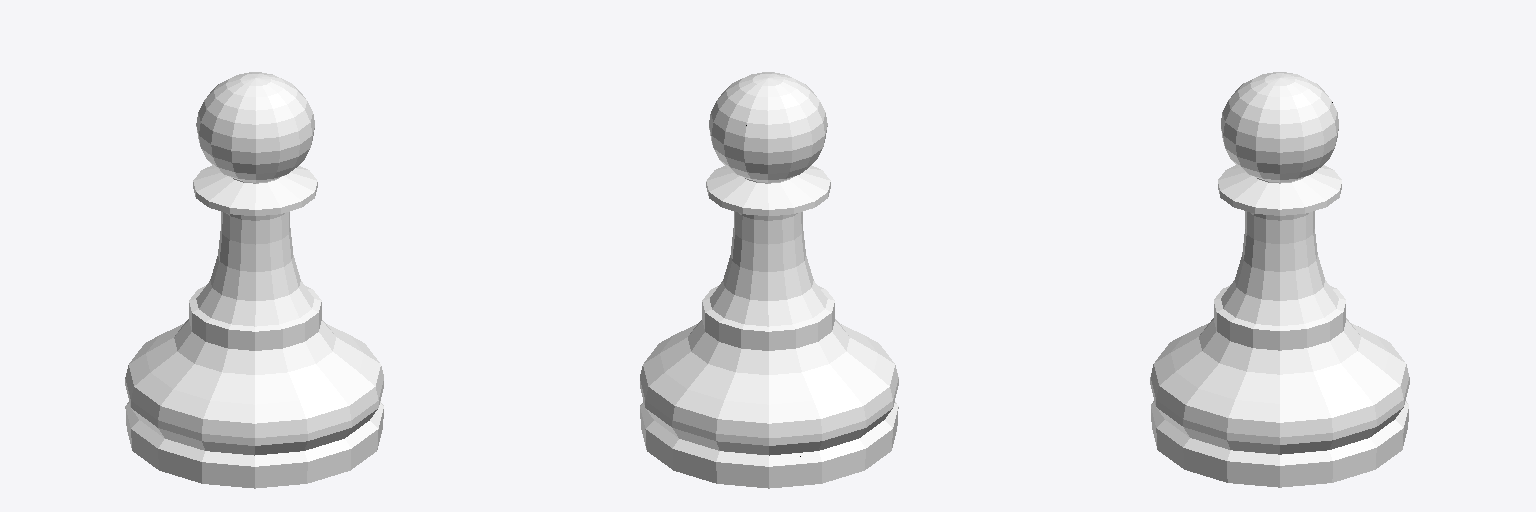
3 views of the same model, side by side, from view 1: azimuth 30°, elevation 25°; view 2: azimuth 150°, elevation 25°; view 3: azimuth 270°, elevation 25° (orthographic).
Parts seen in each view (by area): view 1: pieces; view 2: pieces; view 3: pieces.
Part boxes in pixels (bbox=[...]): pieces: bbox=[125, 72, 383, 488]; pieces: bbox=[640, 72, 898, 488]; pieces: bbox=[1150, 72, 1409, 487].
Bounding box in the file's own units: 0.9867 × 1.5 × 0.9922.
Materials: 1 (1 with a texture image).